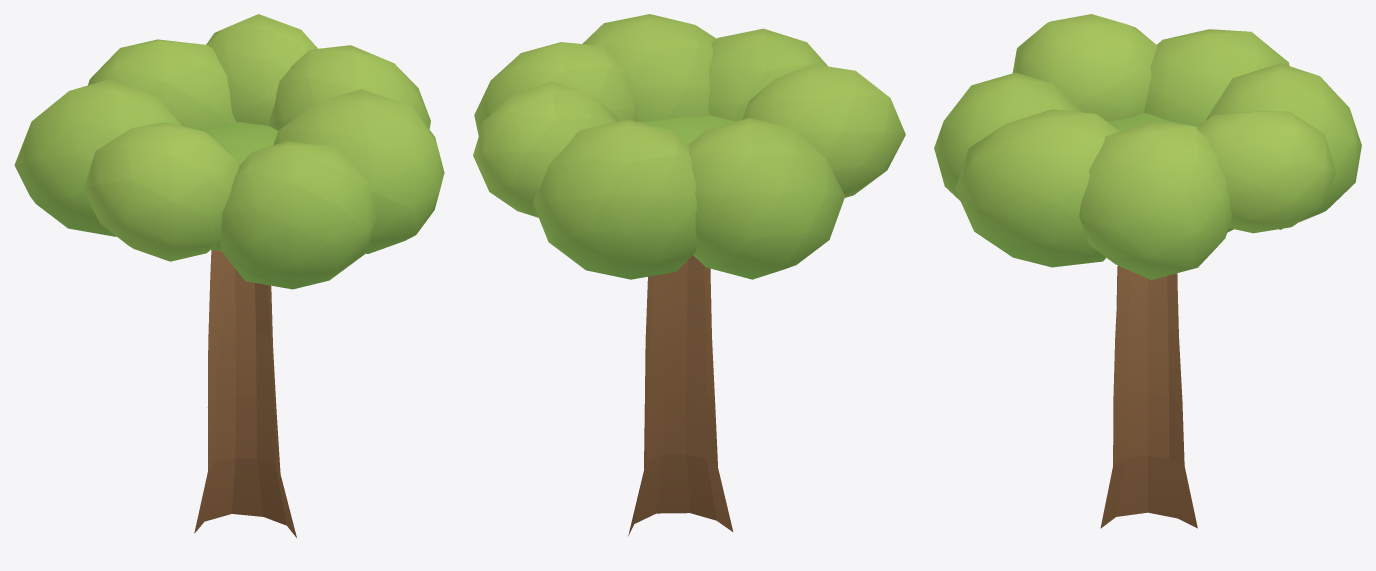
The model's file is climbtree_0.glb.
3 renders of one model, left to right at view 1: azimuth 30°, elevation 25°; view 2: azimuth 150°, elevation 25°; view 3: azimuth 270°, elevation 25°, orthographic. The views are drawn at different scales.
Visible parts, largest first — view 1: climbtree_0; view 2: climbtree_0; view 3: climbtree_0.
Boxes of the visible parts, x1,y1,x2,y2 form: climbtree_0: (14,14,444,537); climbtree_0: (473,14,905,536); climbtree_0: (934,14,1361,528).
Bounding box in the file's own units: 3.25 × 3.91 × 3.31.
